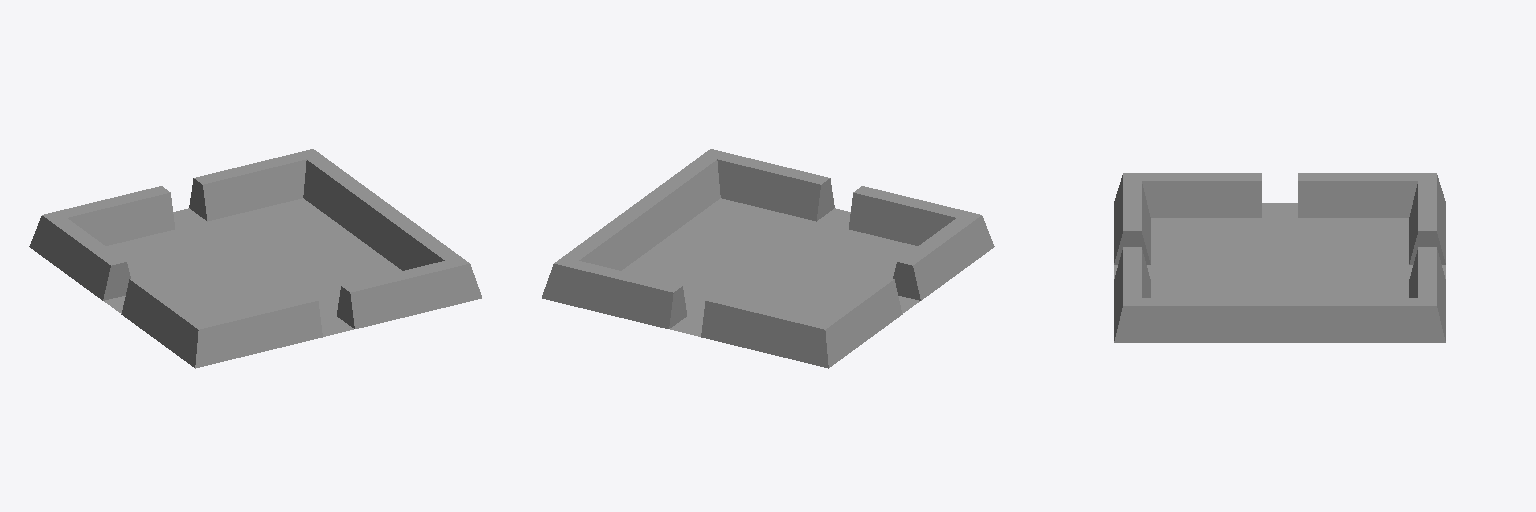
The model's file is sala_11.obj.
The picture shows the model from 3 angles: view 1: azimuth 30°, elevation 25°; view 2: azimuth 150°, elevation 25°; view 3: azimuth 270°, elevation 25°; orthographic projection.
Parts seen in each view (by area): view 1: Ground_Plane, Wall.000_Cube.011, Wall.007_Cube.017, Wall.002_Cube.014, Wall.004_Cube.015, Wall.005_Cube.002, Wall.006_Cube.016, Wall.003_Cube.010, Wall.001_Cube.012; view 2: Ground_Plane, Wall.002_Cube.014, Wall.005_Cube.002, Wall.000_Cube.011, Wall.006_Cube.016, Wall.007_Cube.017, Wall.004_Cube.015, Wall.001_Cube.012, Wall.003_Cube.010; view 3: Ground_Plane, Wall.003_Cube.010, Wall.001_Cube.012, Wall.004_Cube.015, Wall.006_Cube.016, Wall.005_Cube.002, Wall.007_Cube.017, Wall.000_Cube.011, Wall.002_Cube.014.
Boxes of the visible parts, box(x1,y1,x2,y2) form: Ground_Plane: box(104, 198, 401, 336); Wall.000_Cube.011: box(337, 261, 481, 328); Wall.007_Cube.017: box(195, 294, 322, 368); Wall.002_Cube.014: box(189, 149, 312, 221); Wall.004_Cube.015: box(29, 215, 130, 300); Wall.005_Cube.002: box(44, 186, 174, 245); Wall.006_Cube.016: box(121, 275, 204, 367); Wall.003_Cube.010: box(303, 149, 390, 244); Wall.001_Cube.012: box(368, 206, 468, 270); Ground_Plane: box(622, 198, 919, 336); Wall.002_Cube.014: box(542, 261, 686, 328); Wall.005_Cube.002: box(701, 294, 828, 368); Wall.000_Cube.011: box(711, 149, 834, 221); Wall.006_Cube.016: box(893, 215, 994, 300); Wall.007_Cube.017: box(849, 186, 979, 245); Wall.004_Cube.015: box(819, 275, 902, 367); Wall.001_Cube.012: box(633, 149, 720, 244); Wall.003_Cube.010: box(555, 206, 655, 270); Ground_Plane: box(1114, 203, 1445, 297); Wall.003_Cube.010: box(1280, 298, 1445, 342); Wall.001_Cube.012: box(1114, 298, 1279, 342); Wall.004_Cube.015: box(1298, 173, 1435, 217); Wall.006_Cube.016: box(1124, 173, 1261, 217); Wall.005_Cube.002: box(1409, 173, 1445, 264); Wall.007_Cube.017: box(1114, 173, 1150, 264); Wall.000_Cube.011: box(1114, 247, 1150, 340); Wall.002_Cube.014: box(1409, 247, 1445, 340).
Bounding box in the file's own units: 18 × 2 × 18.